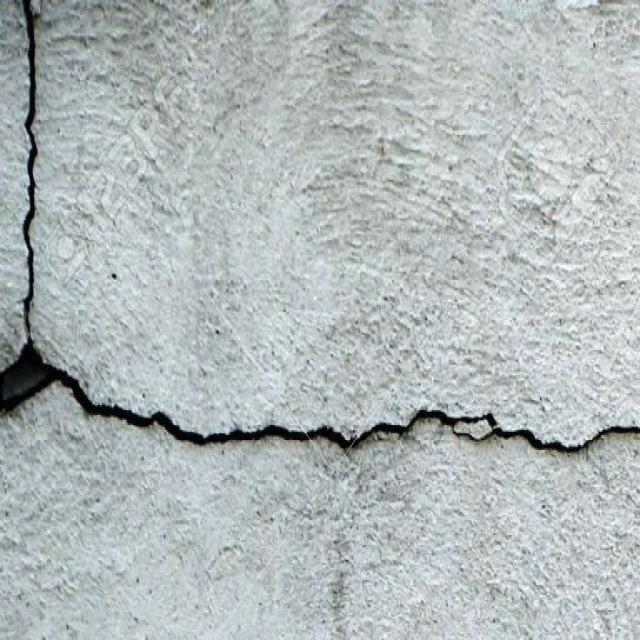crack: (73, 375, 639, 455), (1, 0, 74, 422)
